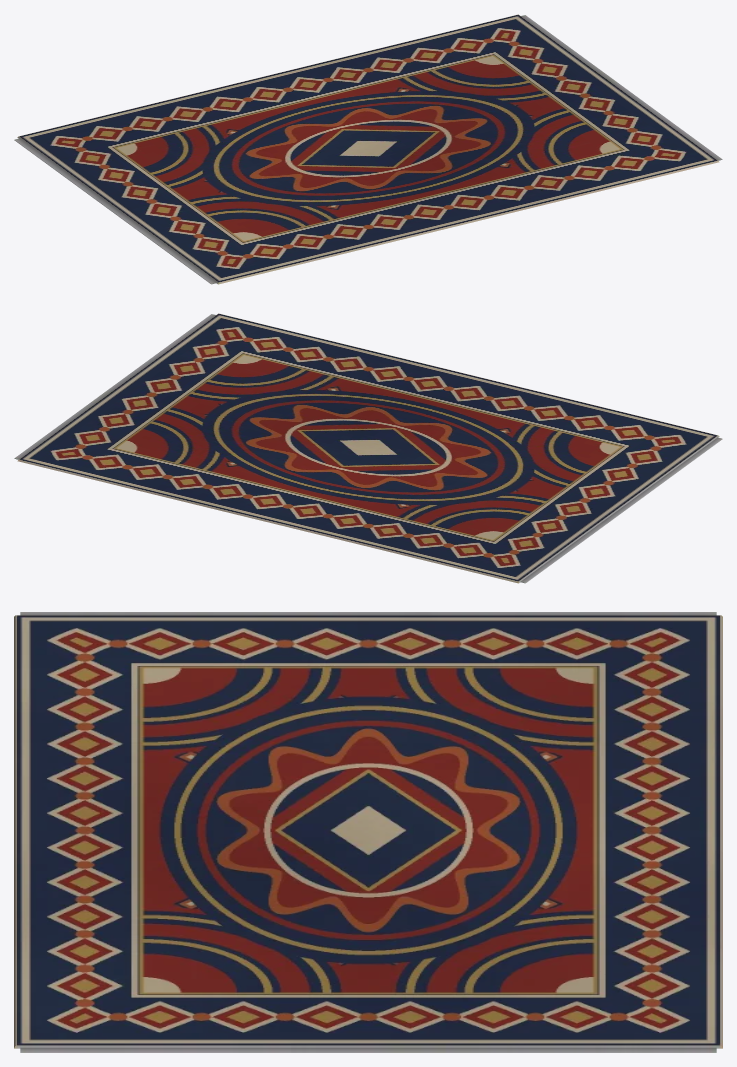
File: library_rug.gltf
The picture shows the model from 3 angles, top to bottom: view 1: azimuth 30°, elevation 25°; view 2: azimuth 150°, elevation 25°; view 3: azimuth 270°, elevation 25°; orthographic projection. The views are drawn at different scales.
Visible parts, largest first — view 1: LibraryRug_Pile; view 2: LibraryRug_Pile; view 3: LibraryRug_Pile.
Boxes of the visible parts, x1,y1,x2,y2 form: LibraryRug_Pile: (14, 14, 722, 284); LibraryRug_Pile: (14, 313, 722, 583); LibraryRug_Pile: (14, 612, 722, 1052).
Size of the model in its own units: 5 by 0.0119 by 3.4.
1 material, 1 textured.
